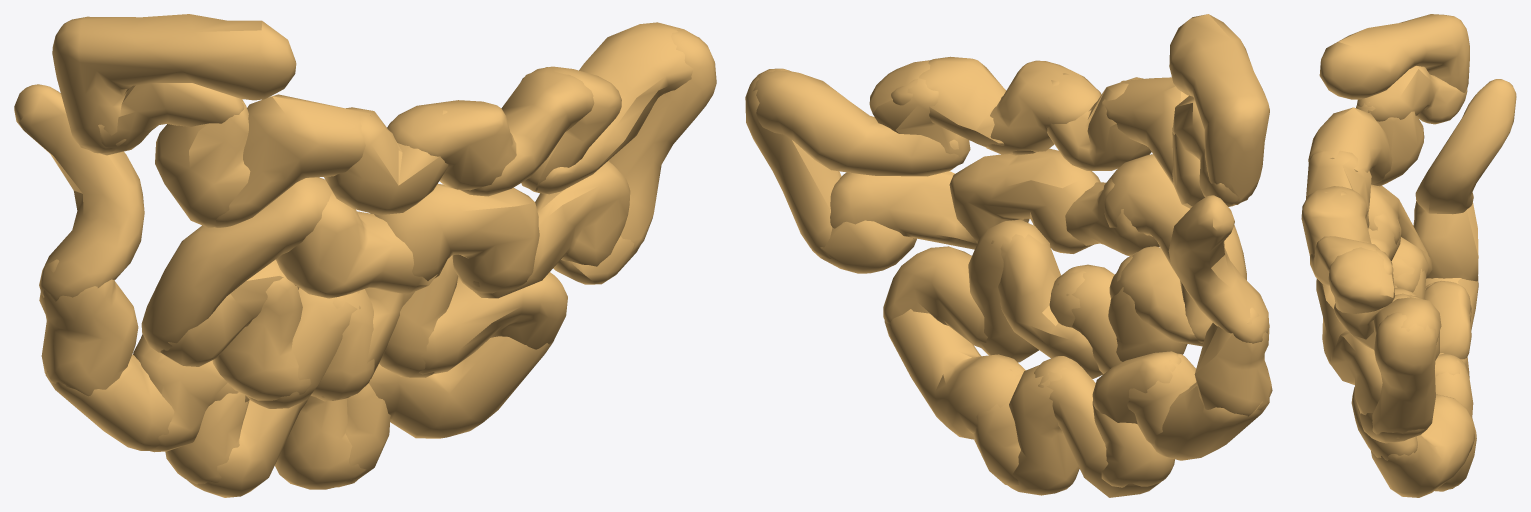
The model's file is ileo.glb.
3 renders of one model, left to right at view 1: azimuth 30°, elevation 25°; view 2: azimuth 150°, elevation 25°; view 3: azimuth 270°, elevation 25°, orthographic. The views are drawn at different scales.
Parts seen in each view (by area): view 1: ileo; view 2: ileo; view 3: ileo.
Boxes of the visible parts, bbox=[...] form: ileo: bbox=[14, 14, 716, 497]; ileo: bbox=[745, 14, 1272, 497]; ileo: bbox=[1301, 14, 1516, 497].
Bounding box in the file's own units: 0.1818 × 0.1473 × 0.0726.
